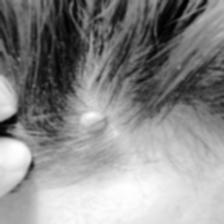Unclassified: (69, 106, 109, 137)
